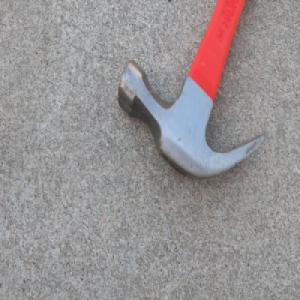Hammer: (115, 0, 267, 190)
